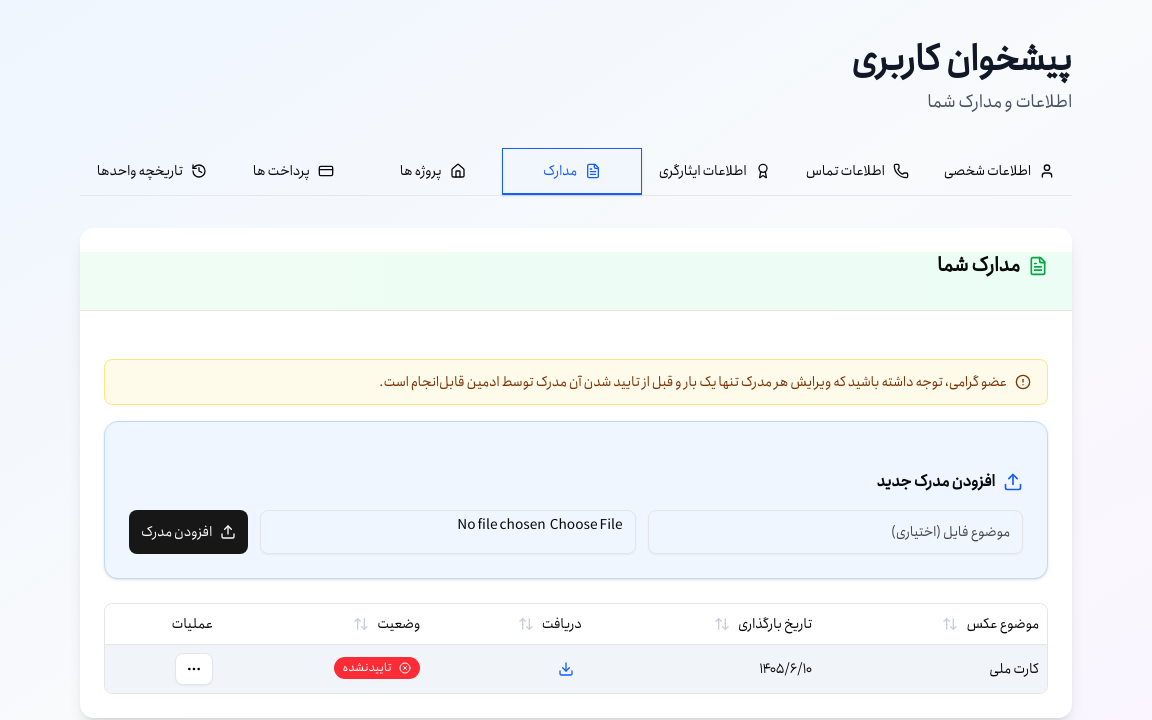
Scenario: ProfilePage documents access › preserves document controls on an account owner’s profile
The image size is (1152, 720).
Expected: the button "افزودن مدرک" is shown, [129,510,248,554]
What coordinates should you click on to do the following:
click the button named "عملیات"
I would click on:
 (194, 668)
Its box is [175,652,213,684].
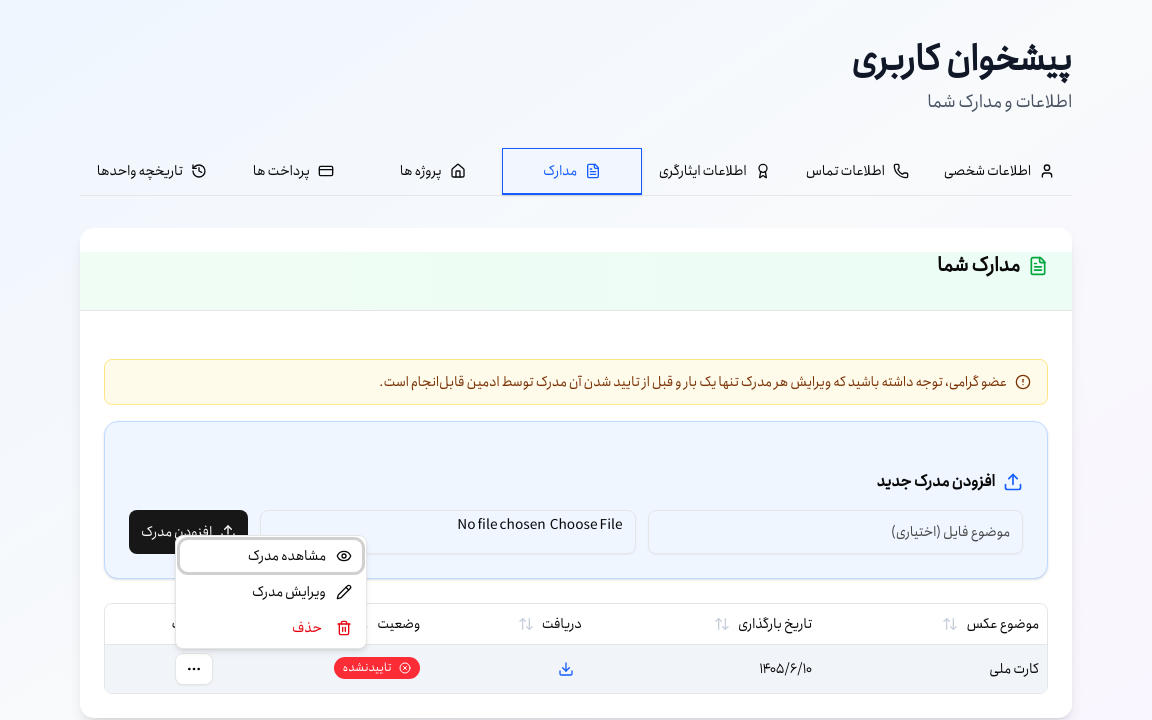
Expected: the button titled "دریافت فایل" is shown, [550,652,582,684]
Now the button "حذف" is shown, box [180,612,362,644]
